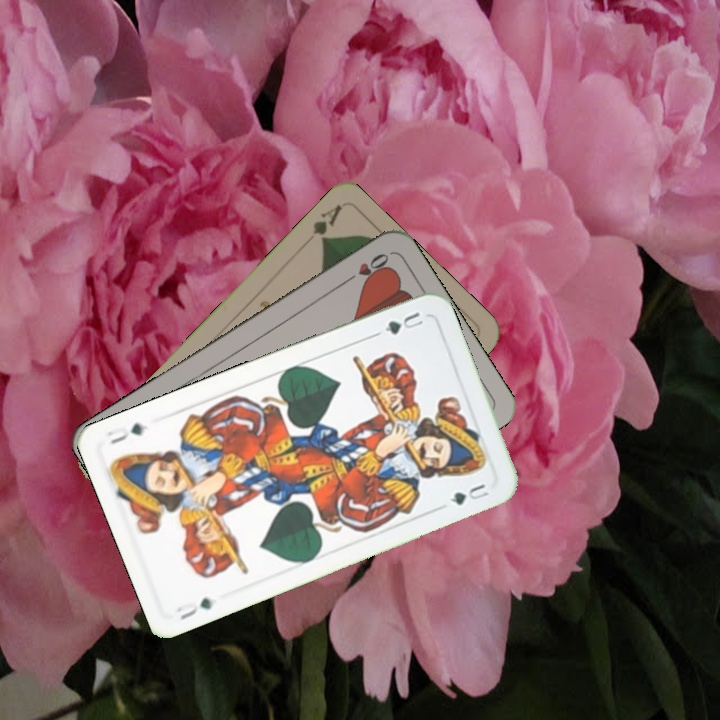GA: (308, 201, 344, 246)
GU: (380, 307, 428, 338), (172, 593, 215, 623)
HO: (339, 249, 392, 287)
